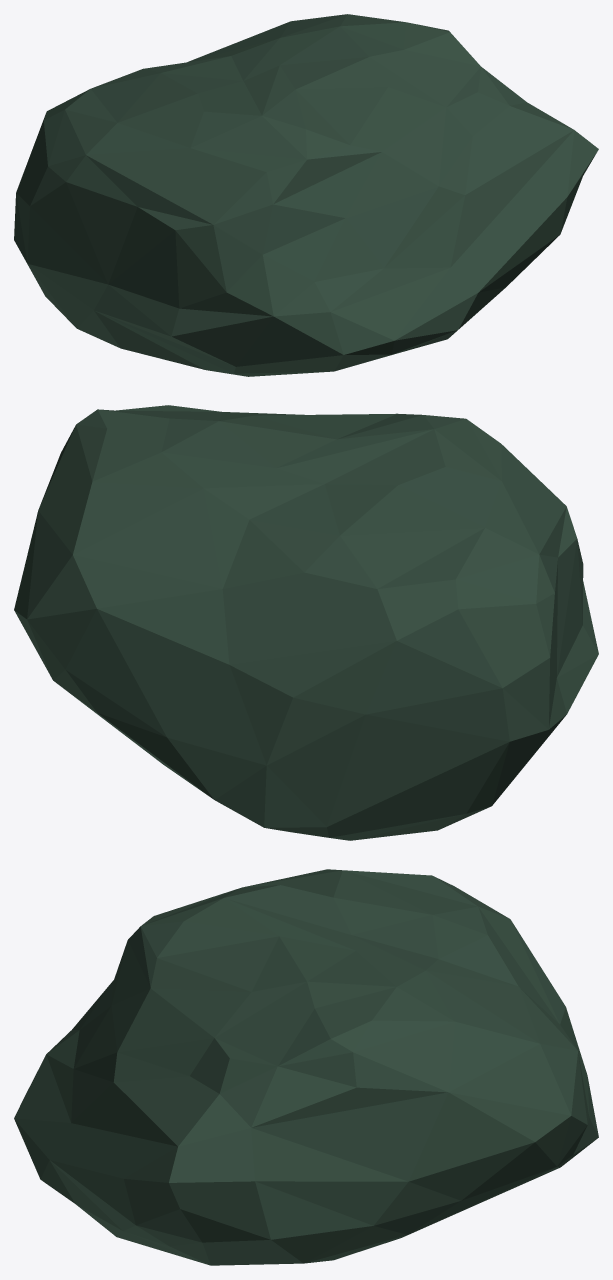
File: S0.stone2.glb
3 views of the same model, one above another, from view 1: azimuth 30°, elevation 25°; view 2: azimuth 150°, elevation 25°; view 3: azimuth 270°, elevation 25° (orthographic). The views are drawn at different scales.
Visible parts, largest first — view 1: Landscape.009; view 2: Landscape.009; view 3: Landscape.009.
Part boxes in pixels (x1,y1,x2,y2): Landscape.009: (14, 14, 598, 376); Landscape.009: (14, 405, 598, 840); Landscape.009: (14, 869, 598, 1265).
Bounding box in the file's own units: 3.25 × 1.75 × 2.96.
